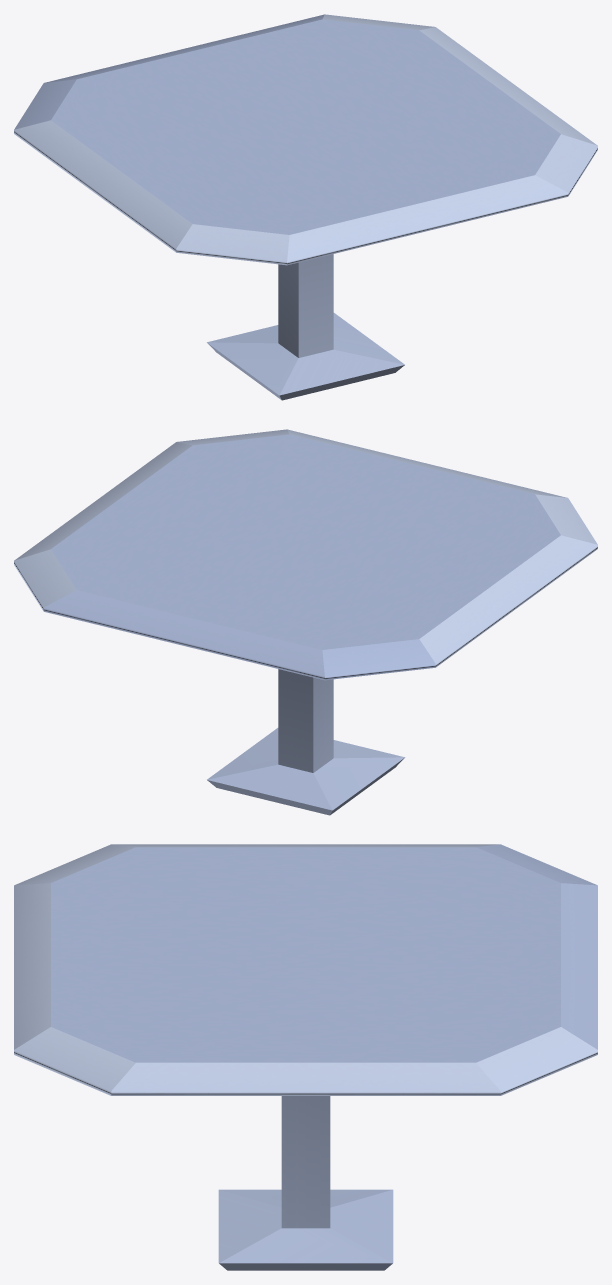
File: Square Table.fbx
3 views of the same model, one above another, from view 1: azimuth 30°, elevation 25°; view 2: azimuth 150°, elevation 25°; view 3: azimuth 270°, elevation 25° (orthographic). The views are drawn at different scales.
Parts seen in each view (by area): view 1: squaretable; view 2: squaretable; view 3: squaretable.
Part boxes in pixels (x1,y1,x2,y2): squaretable: (14, 14, 597, 400); squaretable: (14, 429, 597, 815); squaretable: (14, 844, 597, 1270).
Size of the model in its own units: 106 by 56.73 by 106.
